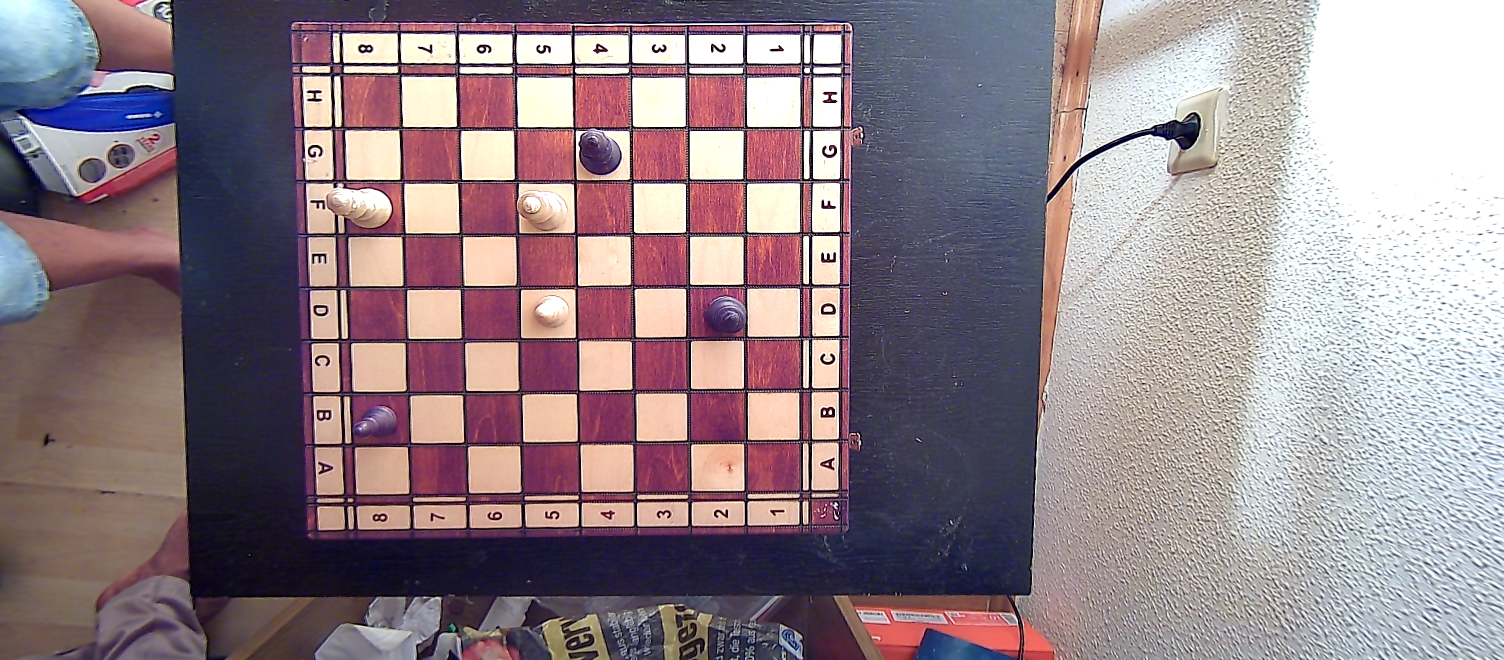black-bishop: (353, 403, 401, 443)
black-king: (702, 293, 746, 337)
black-queen: (577, 127, 624, 175)
white-bishop: (530, 292, 571, 330)
white-king: (516, 187, 570, 230)
white-queen: (323, 183, 395, 230)
